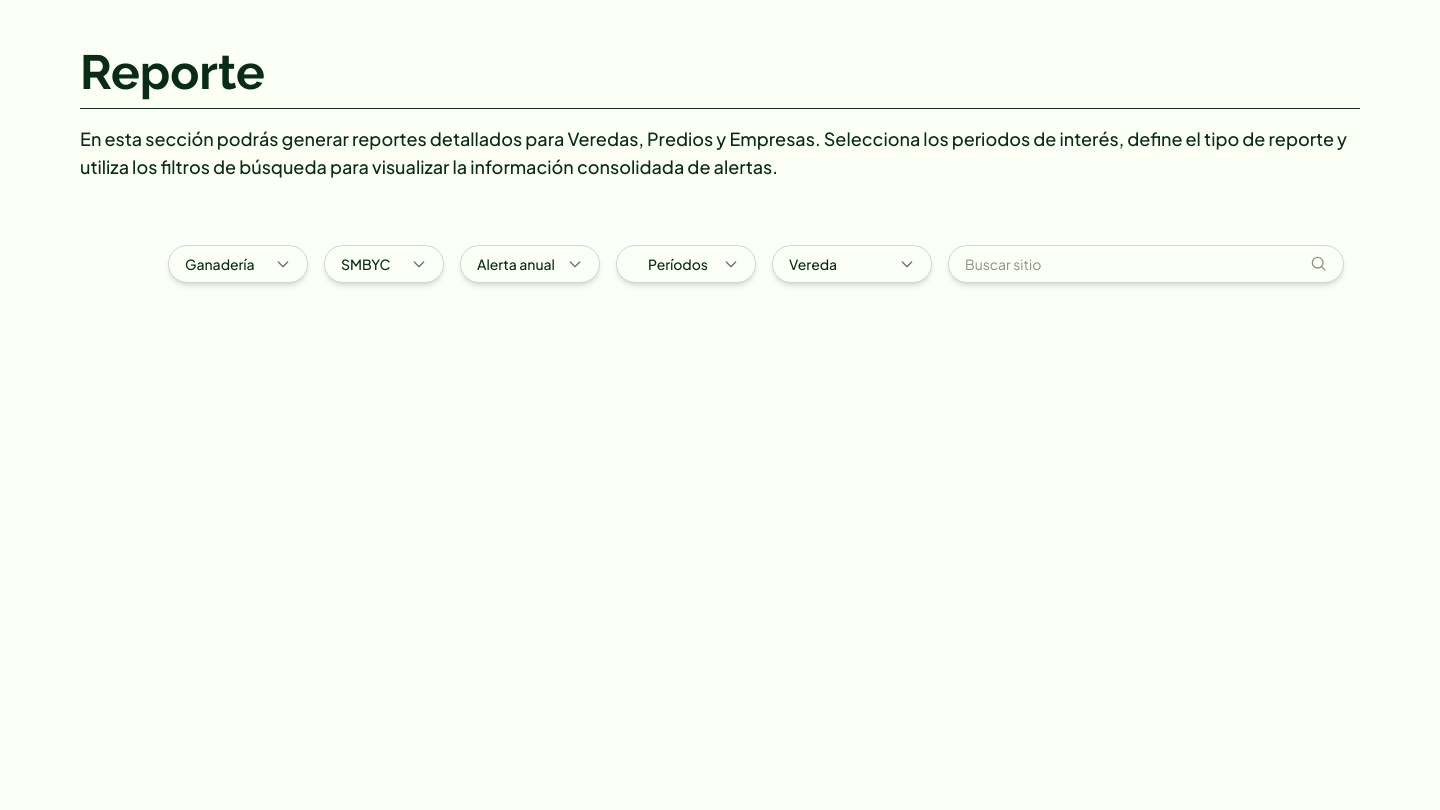
Test: Reporte › generating a vereda report › renders the vereda results table
This screenshot has width=1440, height=810.
Expected: the text "Vereda" is shown, [789, 255, 837, 273]
Click the button "Períodos": (686,264) [616, 245, 756, 283]
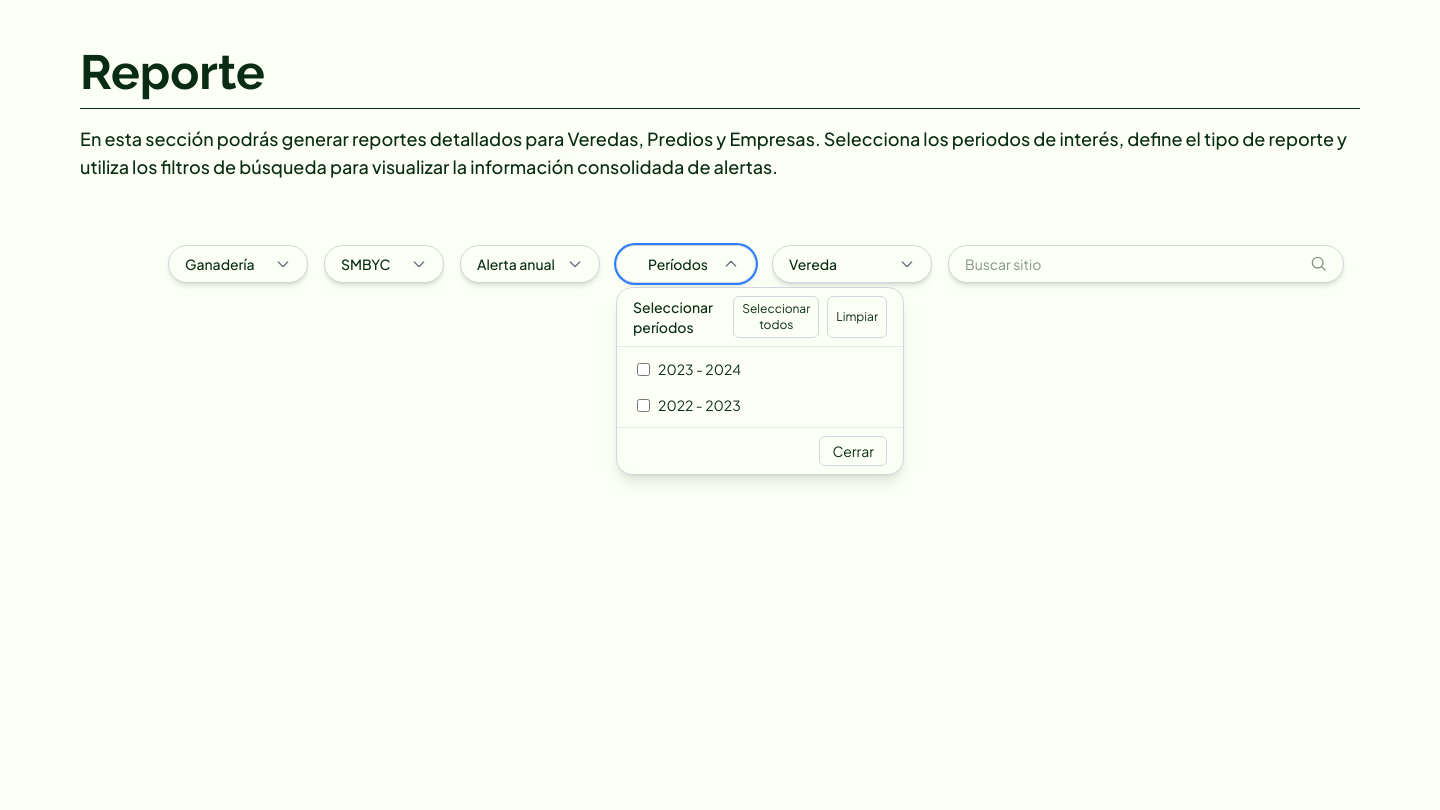
Click the checkbox labelled "2023 - 2024": (644,369) [637, 362, 650, 376]
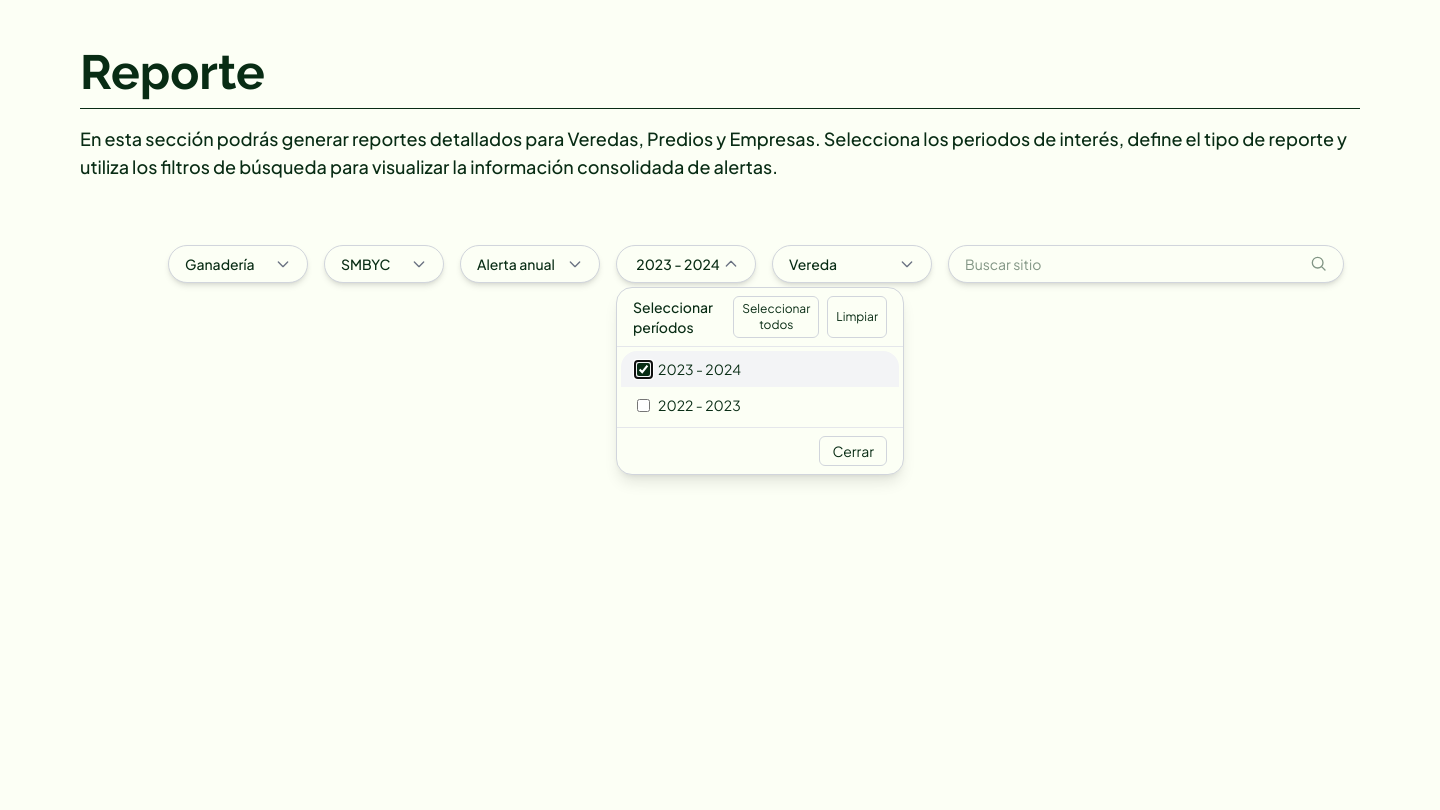
Click the button "Cerrar": (853,451) [819, 436, 887, 466]
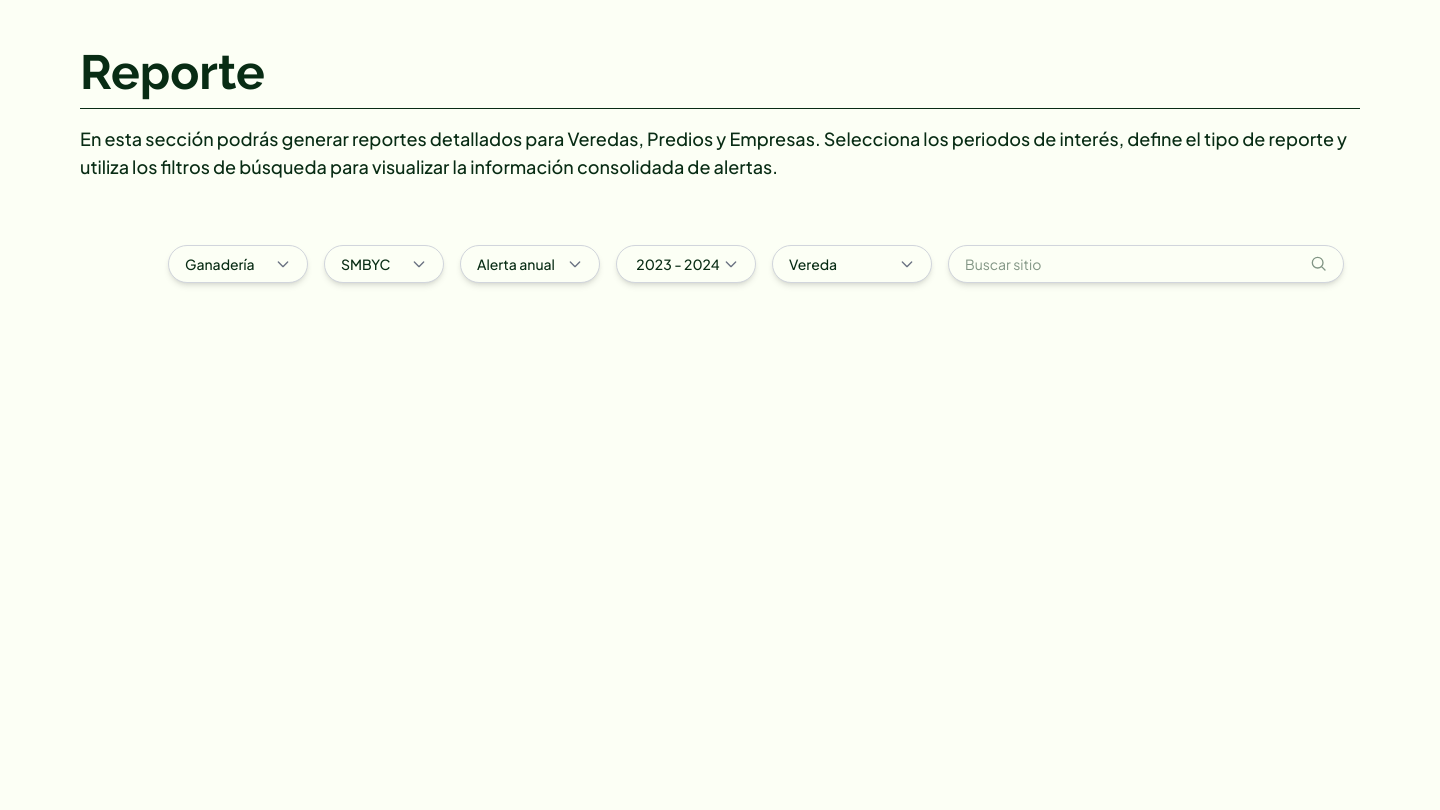
In the field: (1126,264) [949, 246, 1303, 282], type "Retorno"
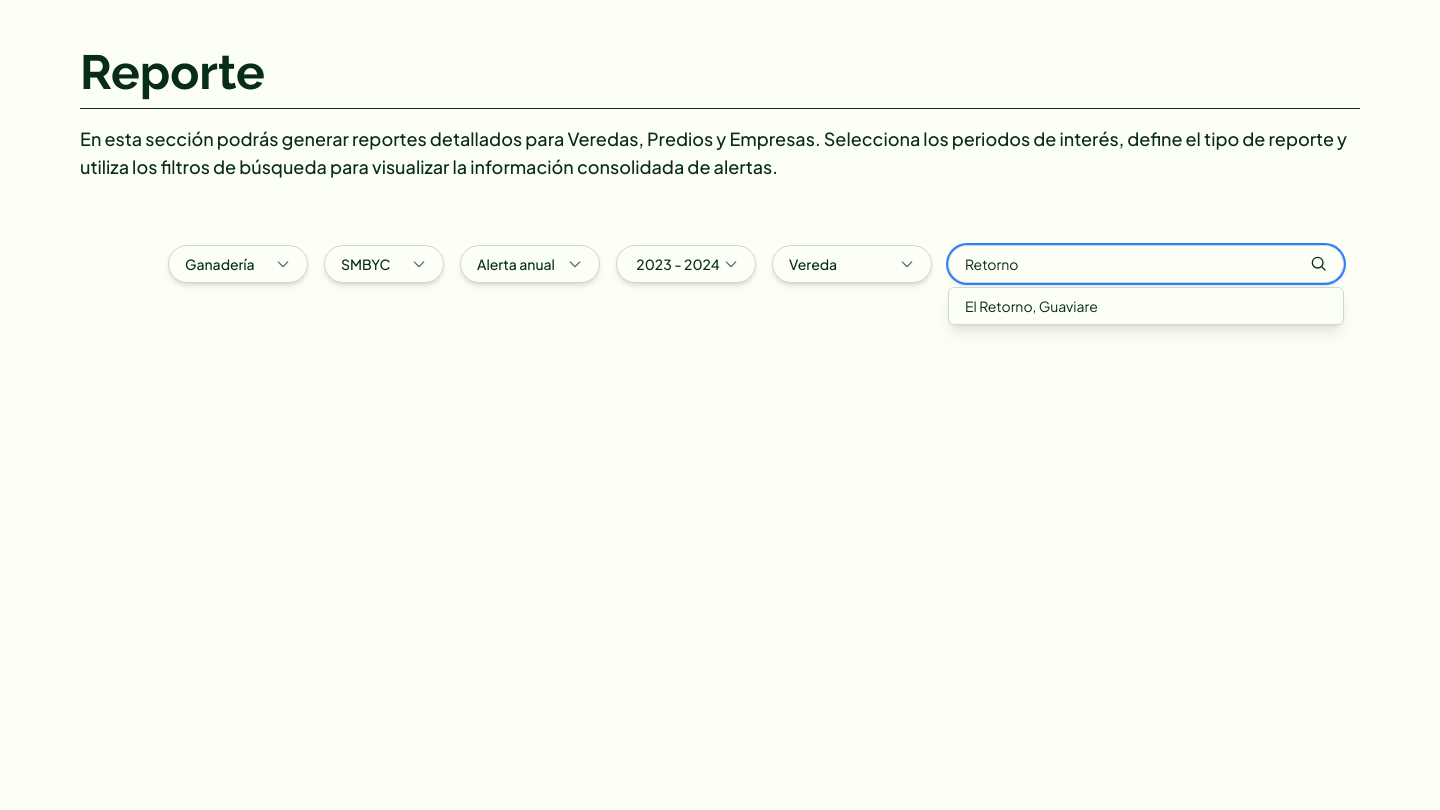
Click the option "El Retorno, Guaviare": (1031,306) [965, 297, 1098, 315]
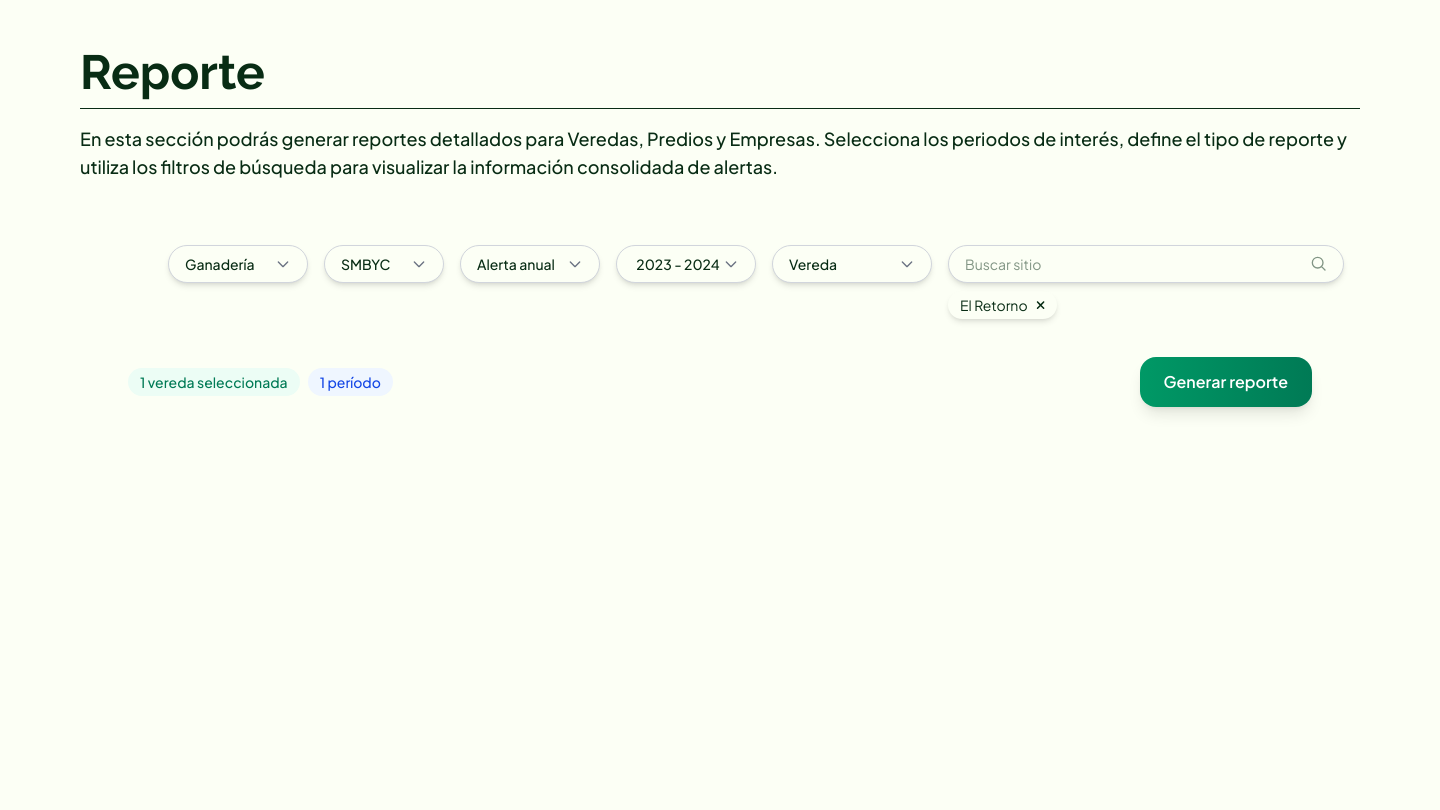
Click the button "Generar reporte": (1226,382) [1140, 357, 1312, 407]
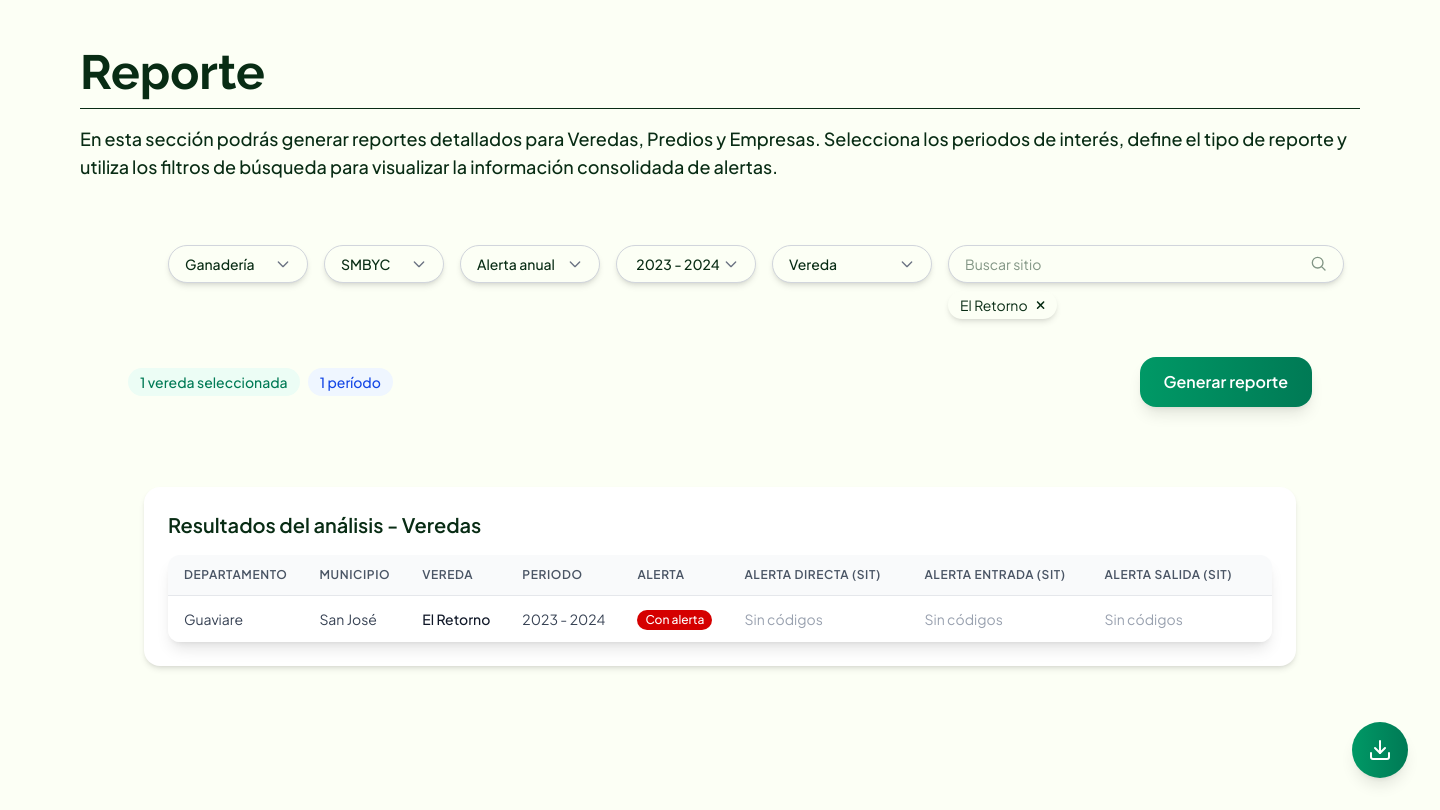
Result: the heading "Resultados del análisis - Veredas" is shown at [168, 512, 481, 537]
Result: the row that starts with "Guaviare" shows "El Retorno" at [422, 610, 490, 628]
Result: the row that starts with "Guaviare" is shown at [184, 610, 243, 628]
